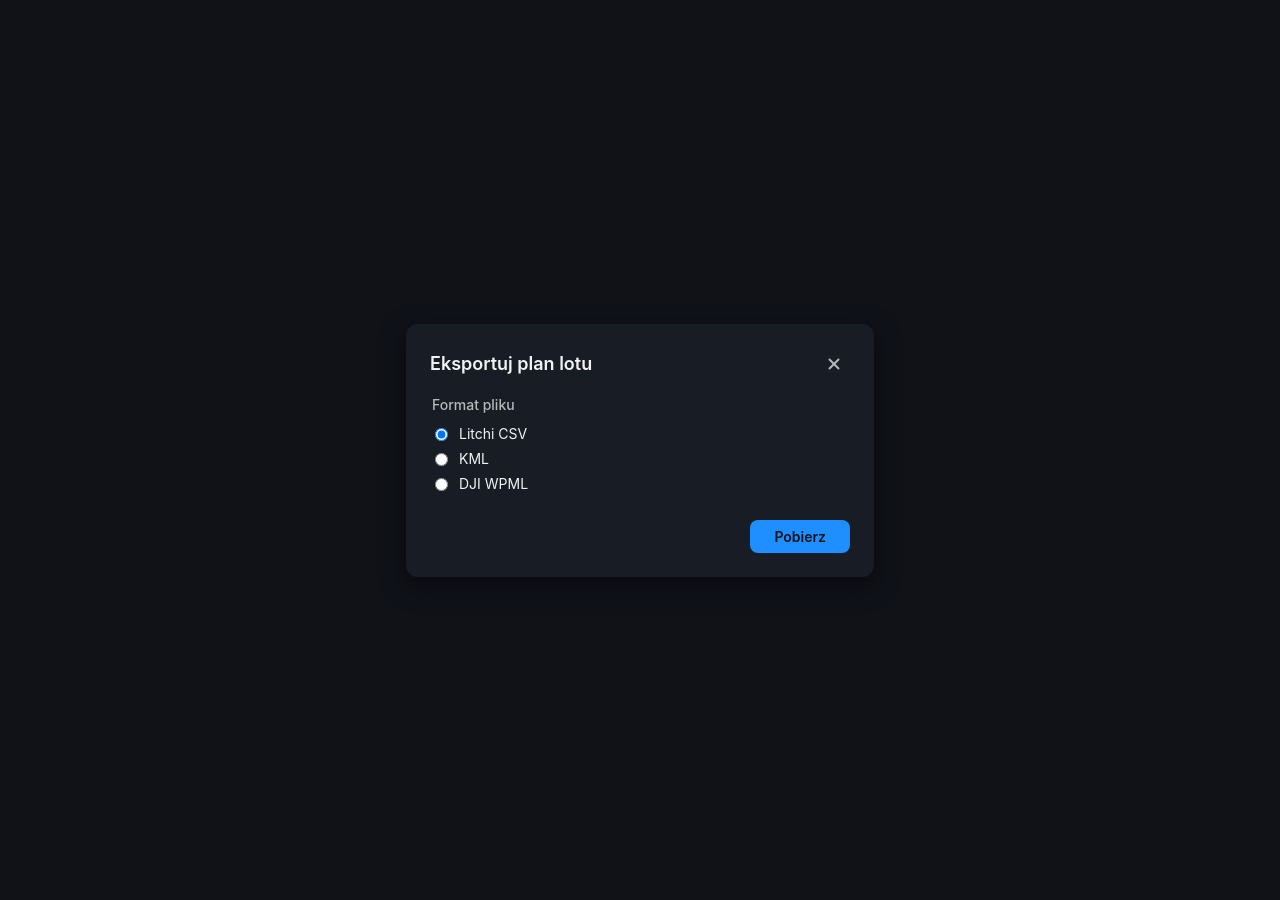
Test: ExportDialogComponent › download flow › should show "Pobieranie..." and disable button during export
Click the button with class "export-dialog__download-btn" at x=800, y=536, box [750,520,850,552]
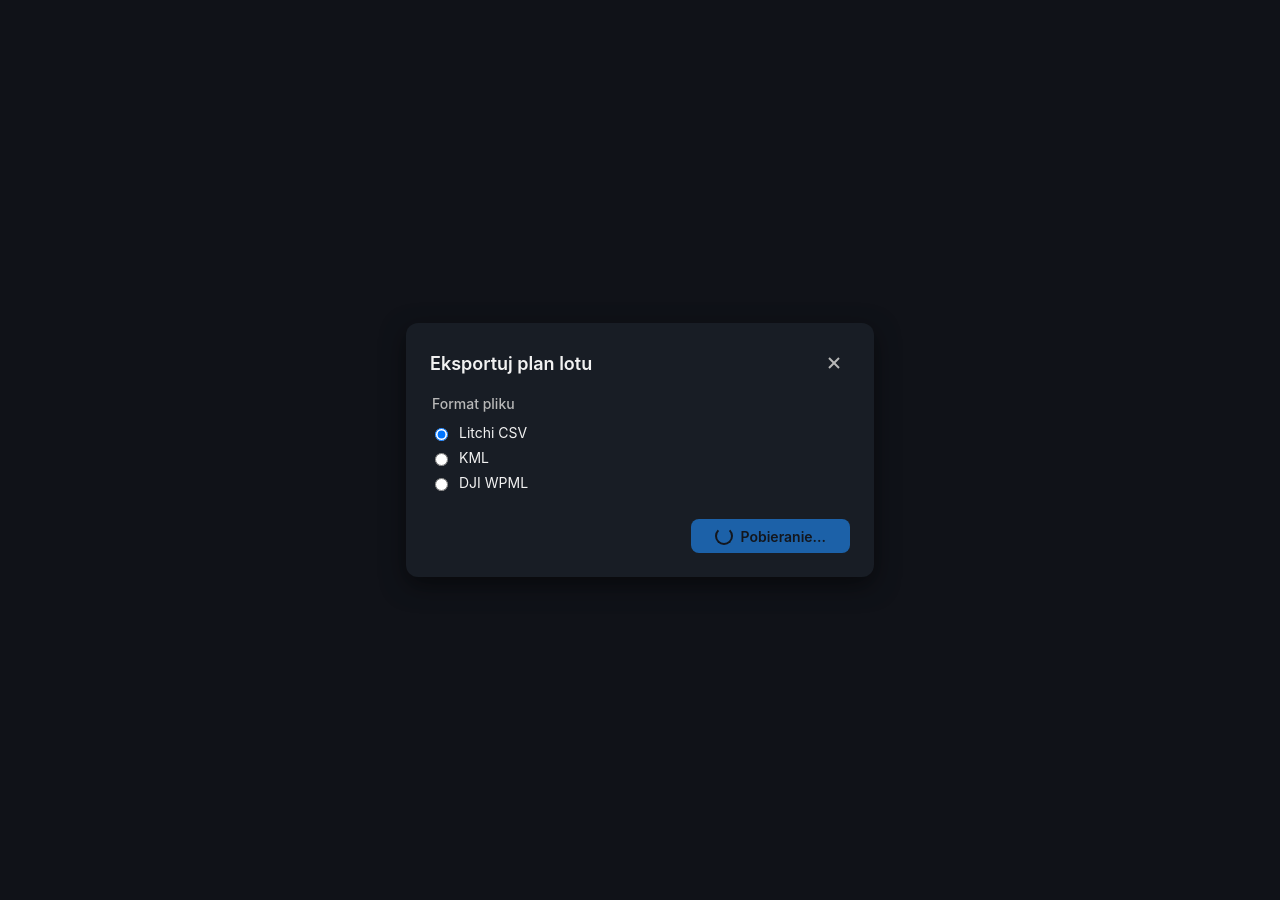
Check: the button with class "export-dialog__download-btn" is disabled, box [690,519,850,553]
Check: the button with class "export-dialog__download-btn" reads "Pobieranie...", box [690,519,850,553]
